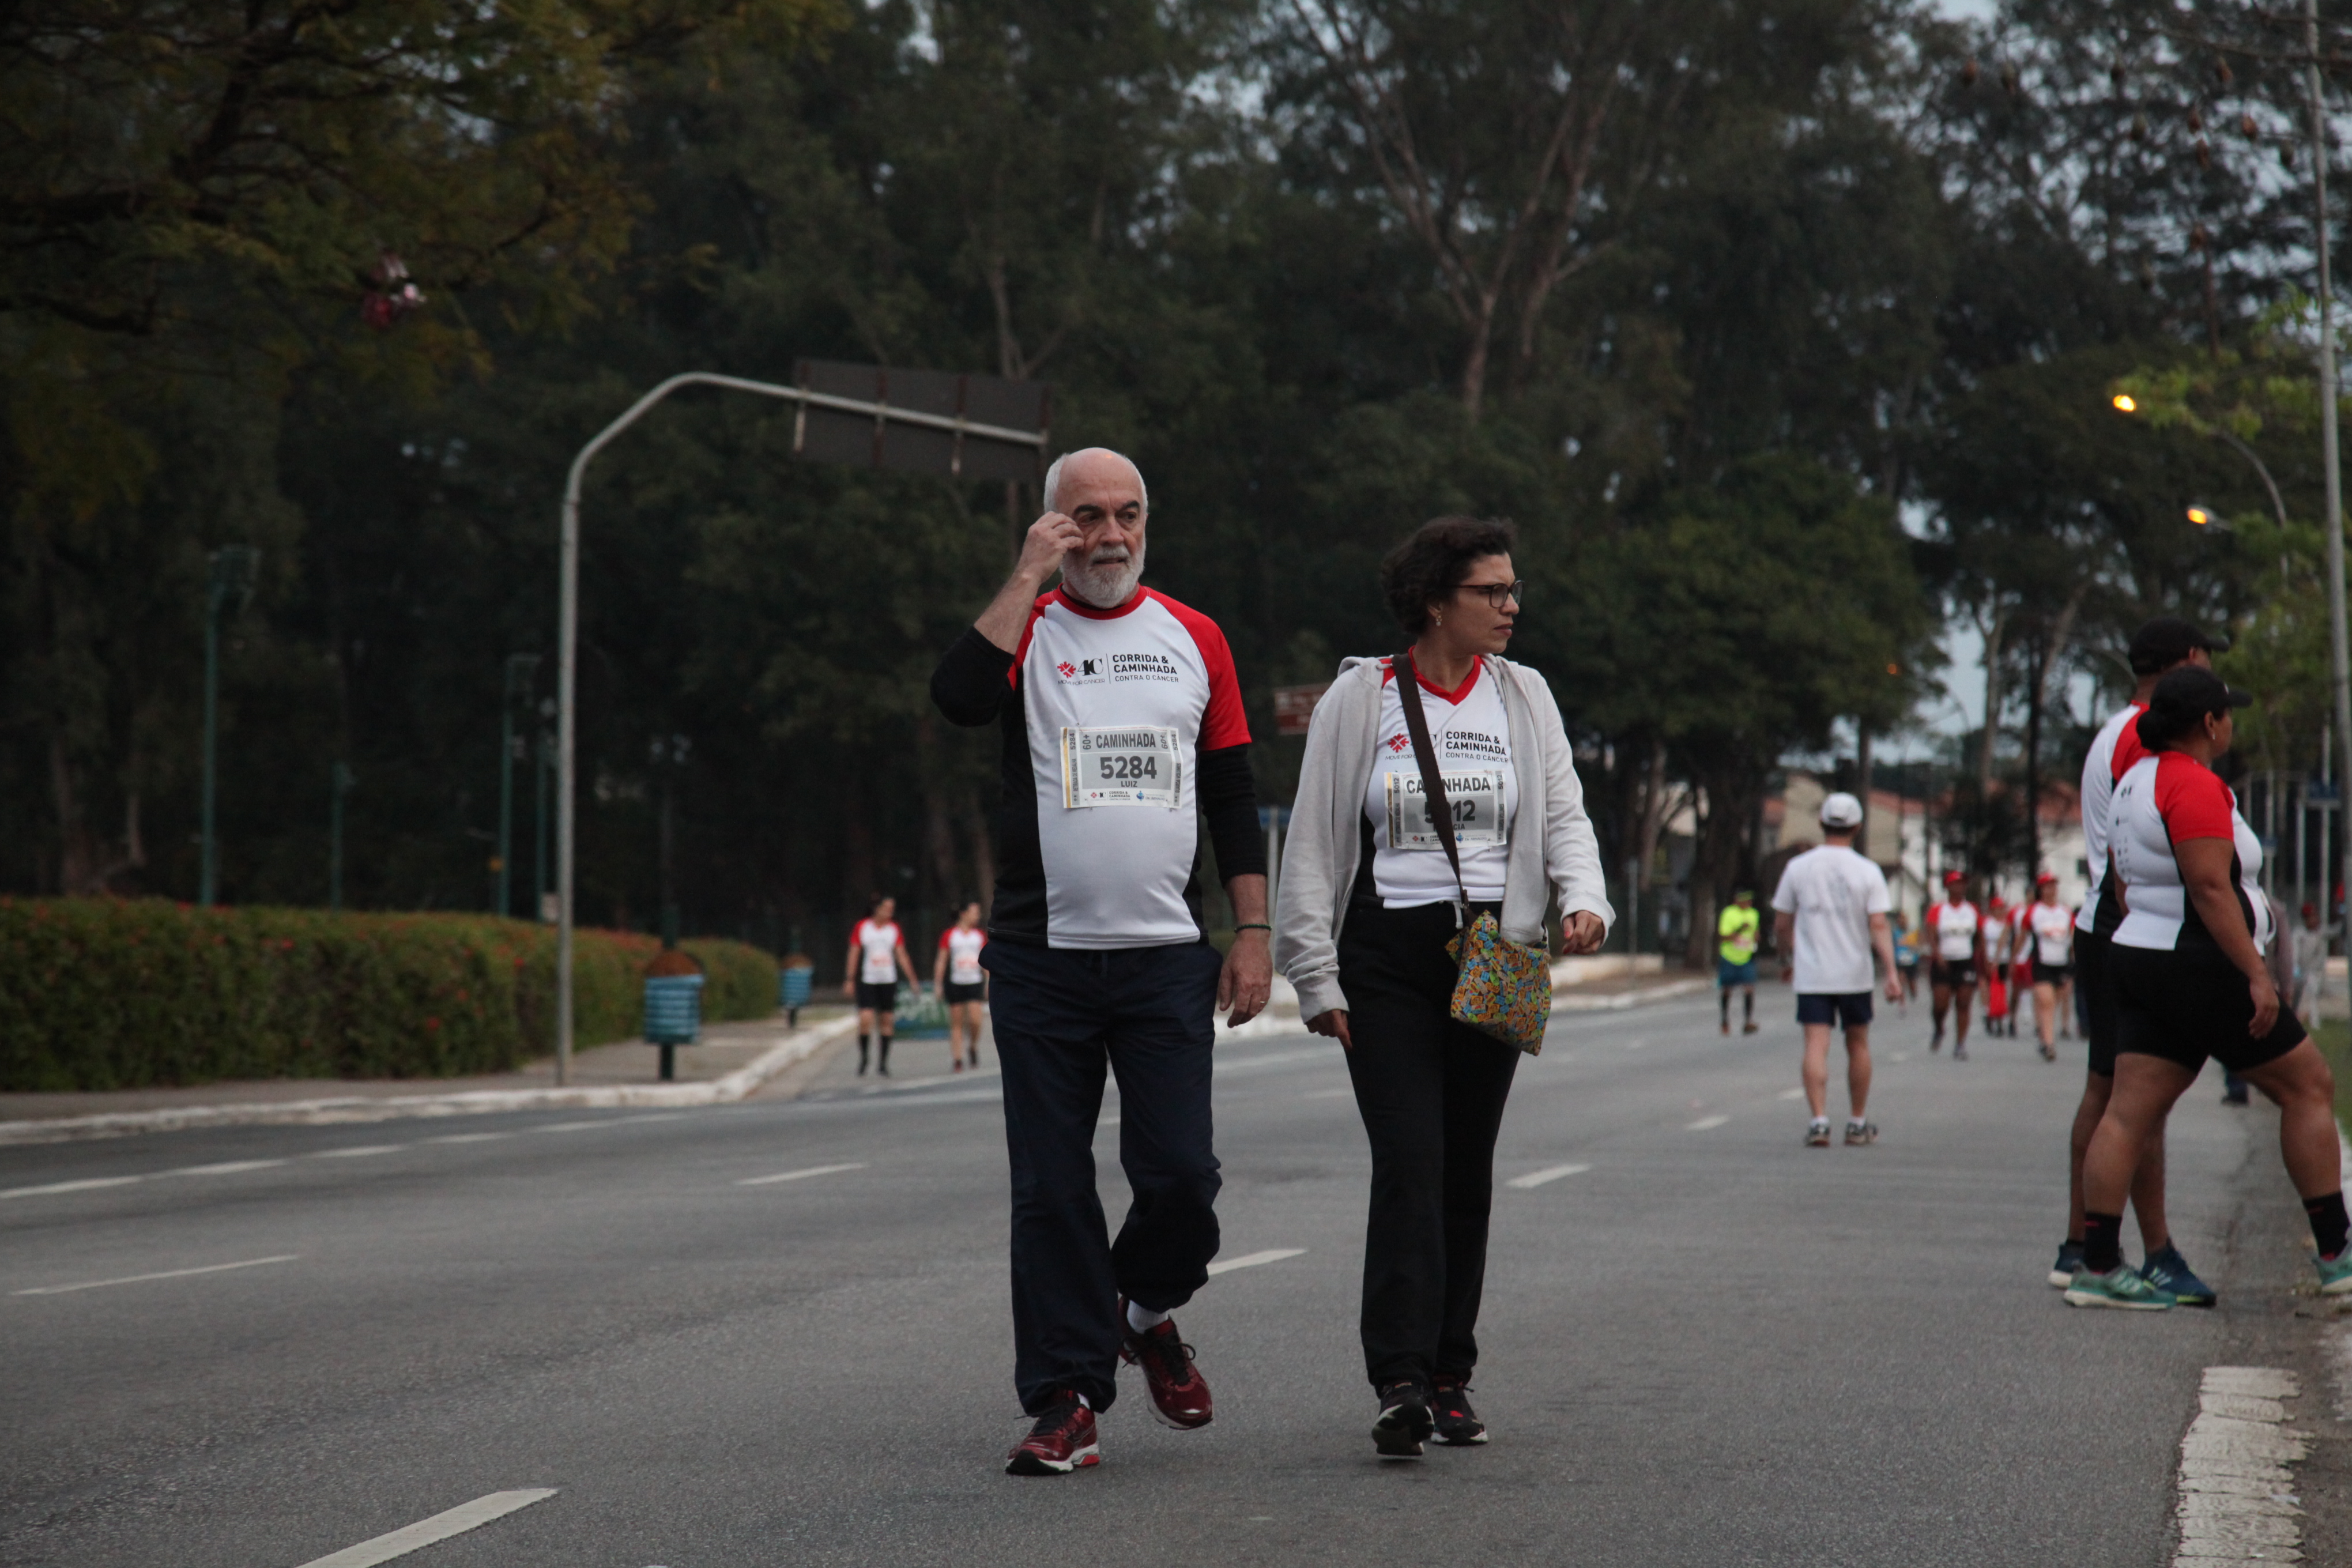bibtag: (1046, 717, 1192, 821), (1377, 763, 1522, 859)
